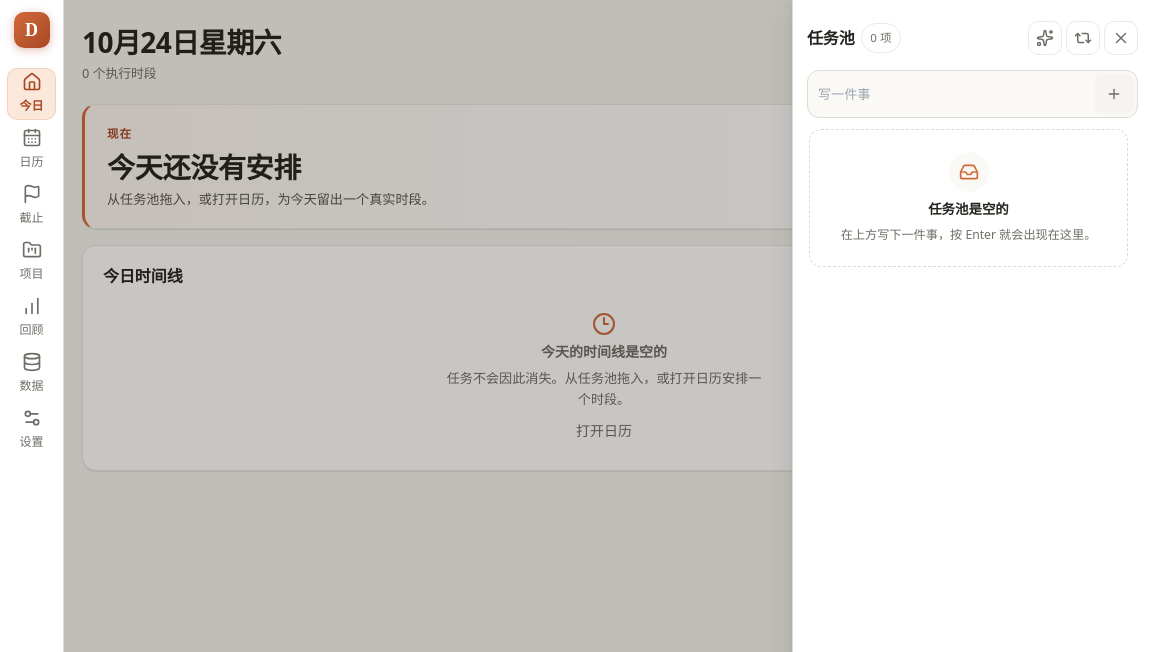
Scenario: phase 1 manual alpha › keeps changed settings visible and reports an unsaved write
This screenshot has width=1152, height=652.
Click the button "设置".
click(32, 430)  # box [7,404,56,456]
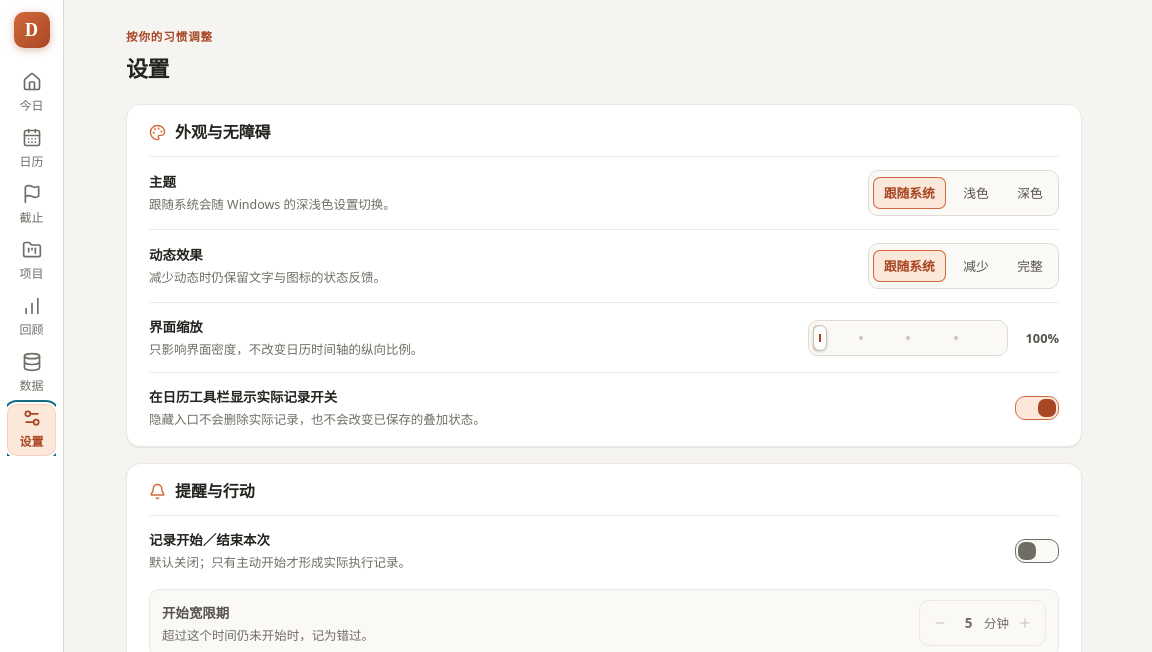
Click the radio button labelled "深色".
click(1030, 193)  # box [1017,184,1043,202]
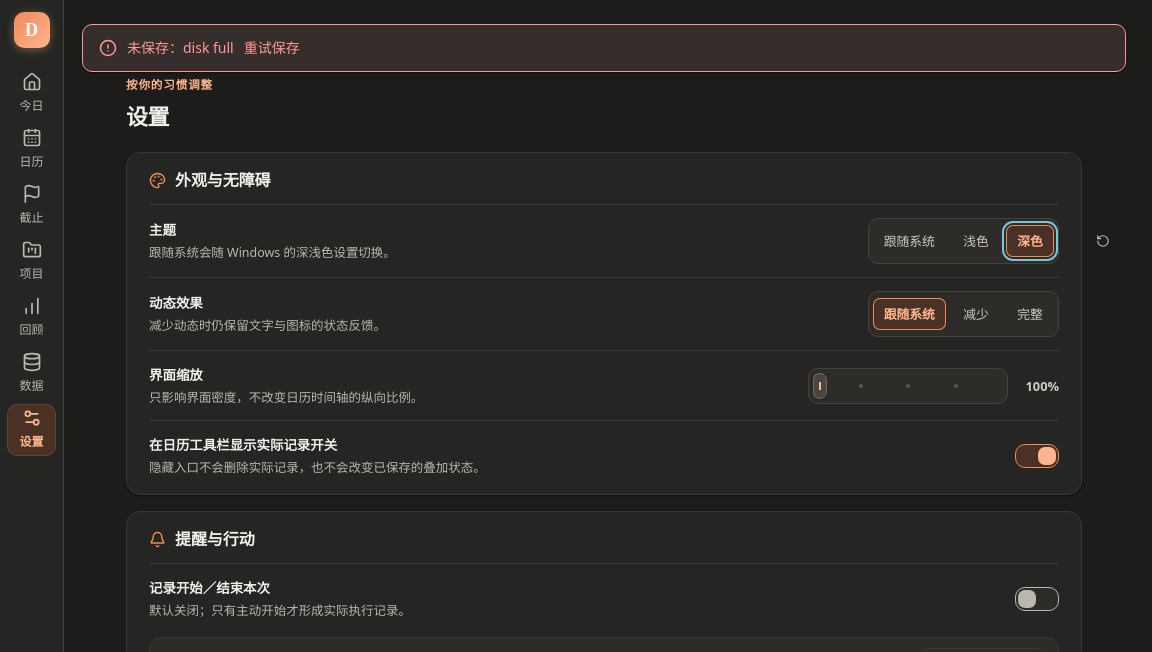
Result: the radio button labelled "深色" is checked at [1004,219,1056,263]
Result: the message shows "未保存" at [127,38,183,57]
Click the button "重试保存".
click(272, 48)  # box [244,37,300,59]
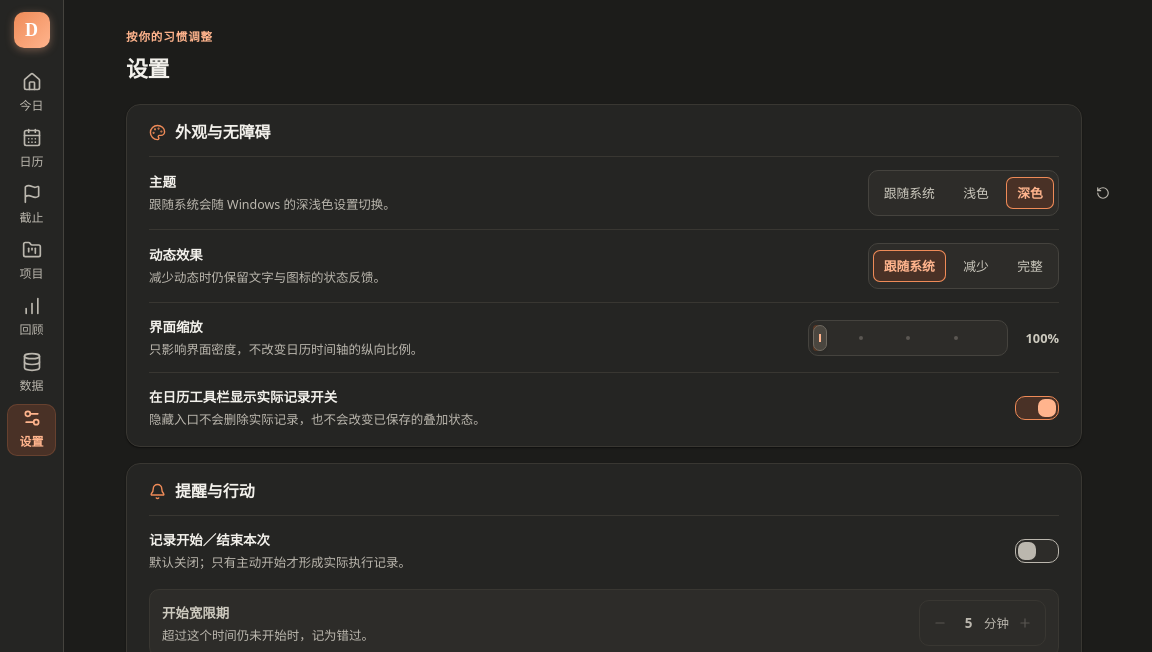
Result: the message "未保存：disk full 重试保存" is gone
